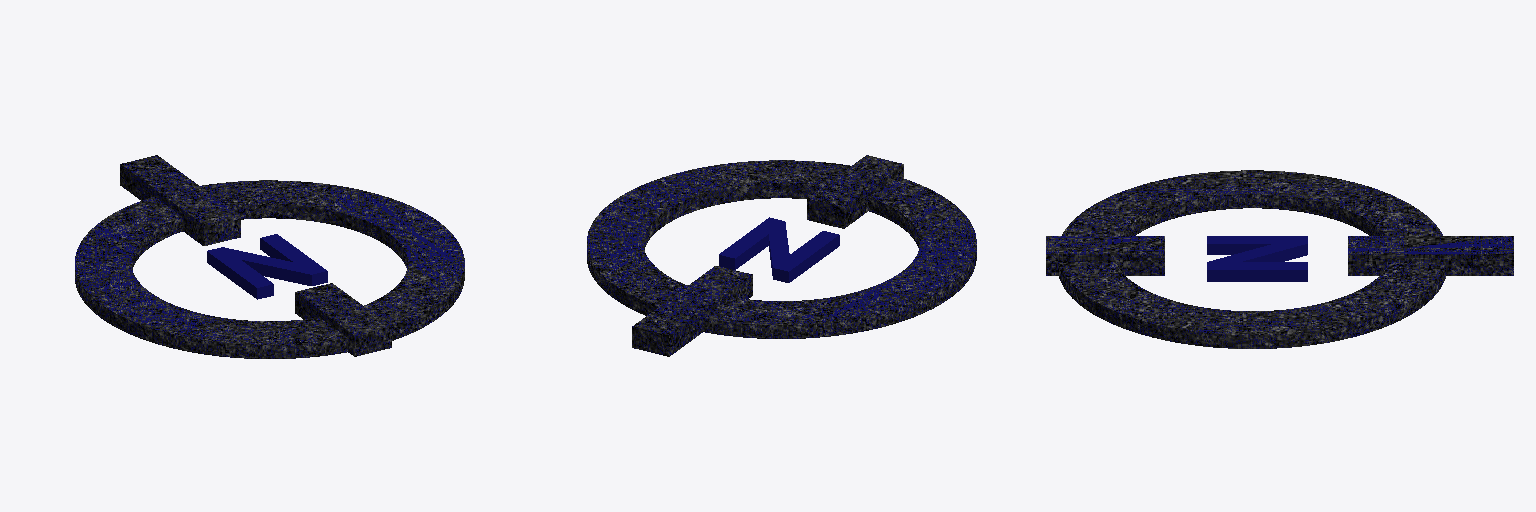
The picture shows the model from 3 angles: view 1: azimuth 30°, elevation 25°; view 2: azimuth 150°, elevation 25°; view 3: azimuth 270°, elevation 25°; orthographic projection.
Parts seen in each view (by area): view 1: Mesh1 Union Model, Mesh2 N1 Model; view 2: Mesh1 Union Model, Mesh2 N1 Model; view 3: Mesh1 Union Model, Mesh2 N1 Model.
Boxes of the visible parts, x1,y1,x2,y2 form: Mesh1 Union Model: [75, 155, 464, 358]; Mesh2 N1 Model: [207, 234, 327, 299]; Mesh1 Union Model: [587, 155, 976, 356]; Mesh2 N1 Model: [719, 217, 839, 282]; Mesh1 Union Model: [1046, 170, 1513, 348]; Mesh2 N1 Model: [1207, 236, 1307, 281].
Size of the model in its own units: 5.12 by 0.3125 by 6.15.
2 materials, 1 textured.